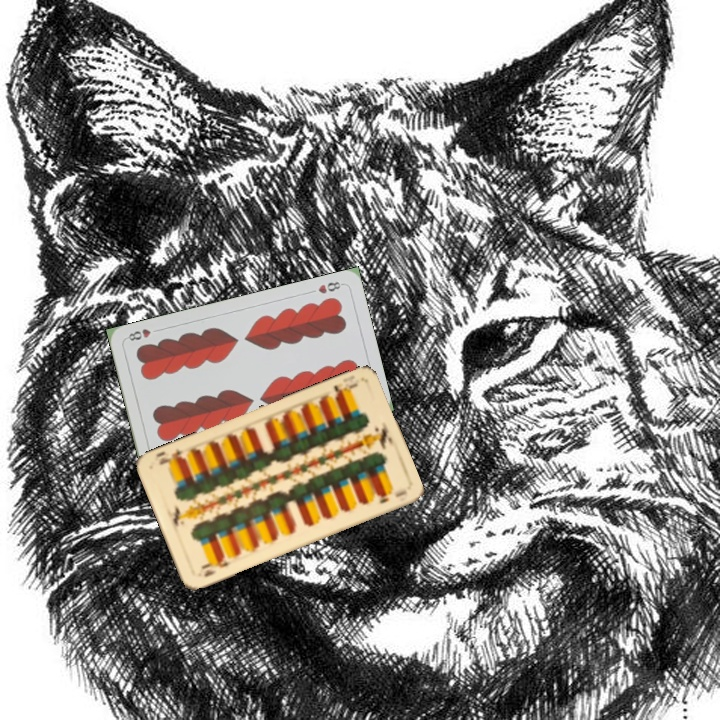E10: (197, 554, 233, 579), (330, 379, 360, 400)
H8: (314, 277, 346, 296)
